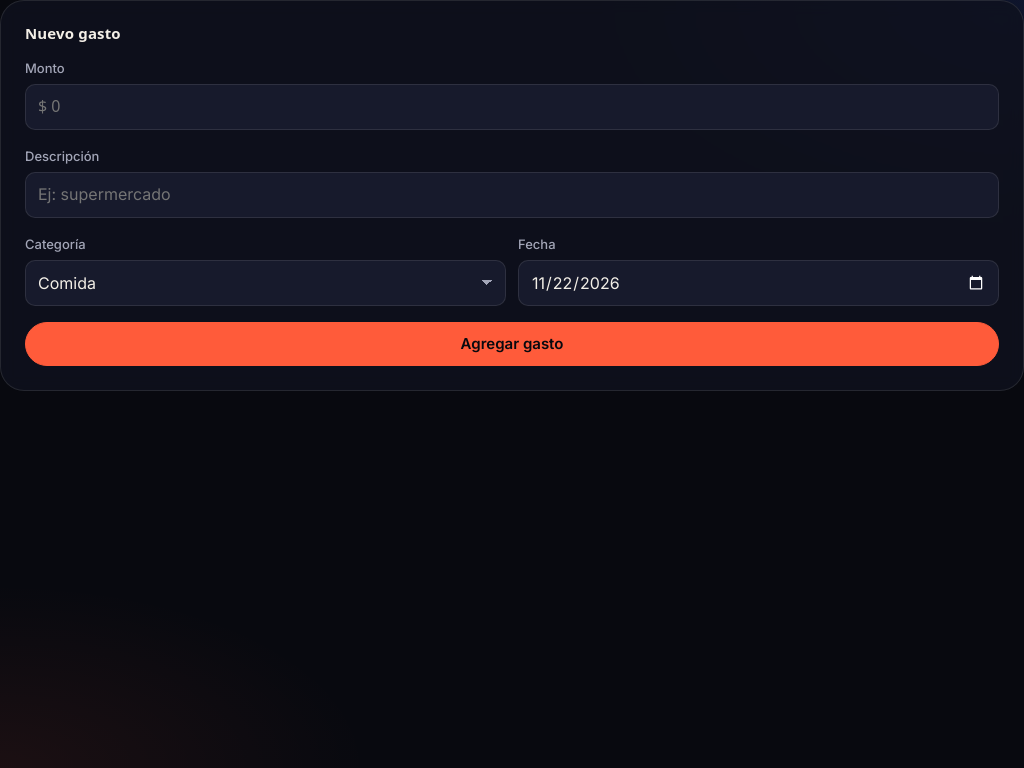
Test case: ExpenseForm › muestra errores y no envía si faltan datos
Click the button "Agregar gasto": {"x": 512, "y": 344} [25,322,999,366]
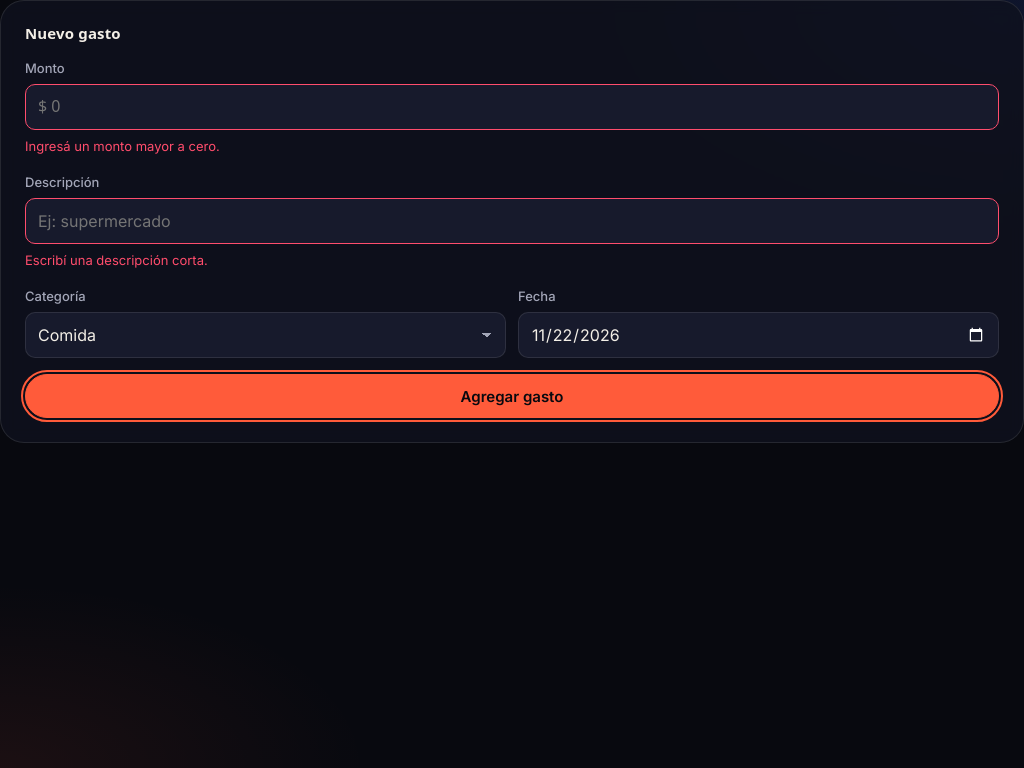
Expected: the text "Ingresá un monto mayor a cero." is shown, [25,138,220,154]
